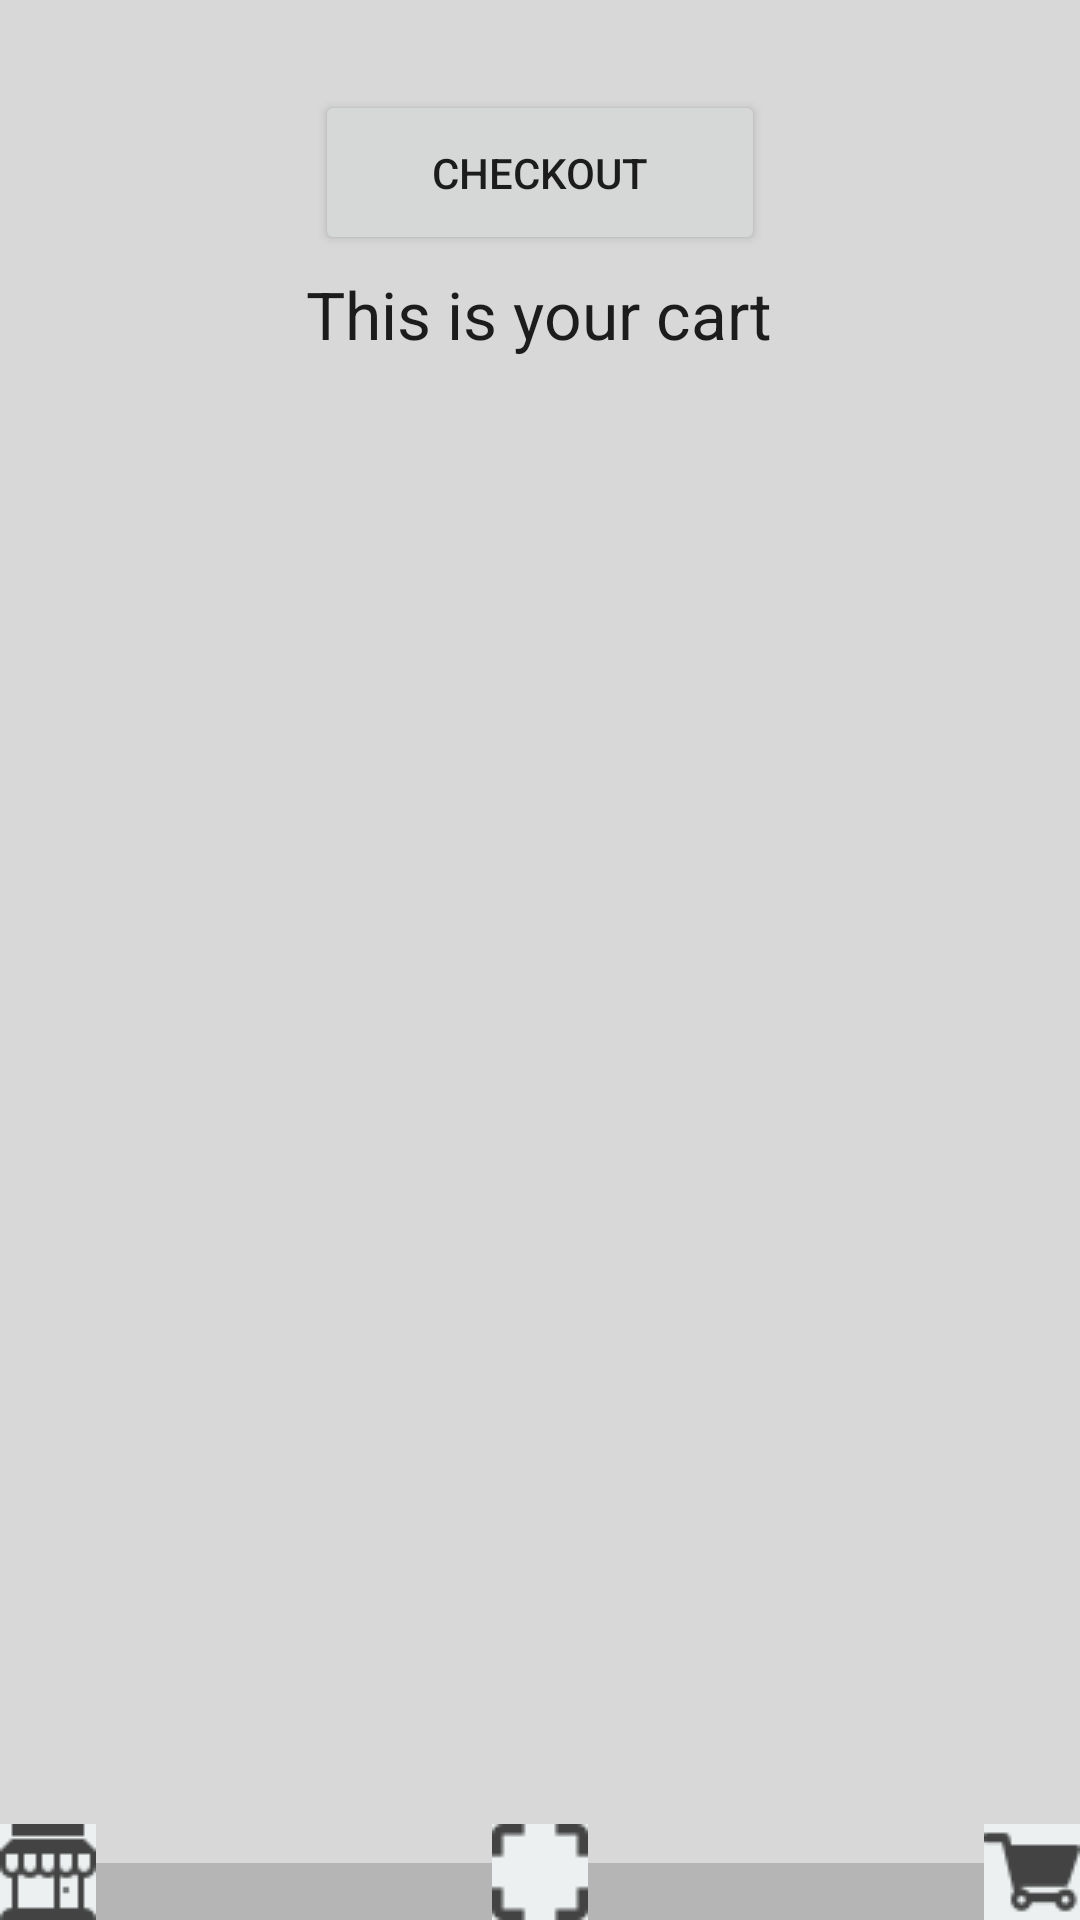

Icon bounding boxes for this 1080 x 1920 phone screenshot, format (left=x1, top=y1, right=x2, bottom=y2):
cart: (left=984, top=1824, right=1080, bottom=1920)
scan: (left=492, top=1824, right=588, bottom=1920)
store: (left=0, top=1824, right=96, bottom=1920)
